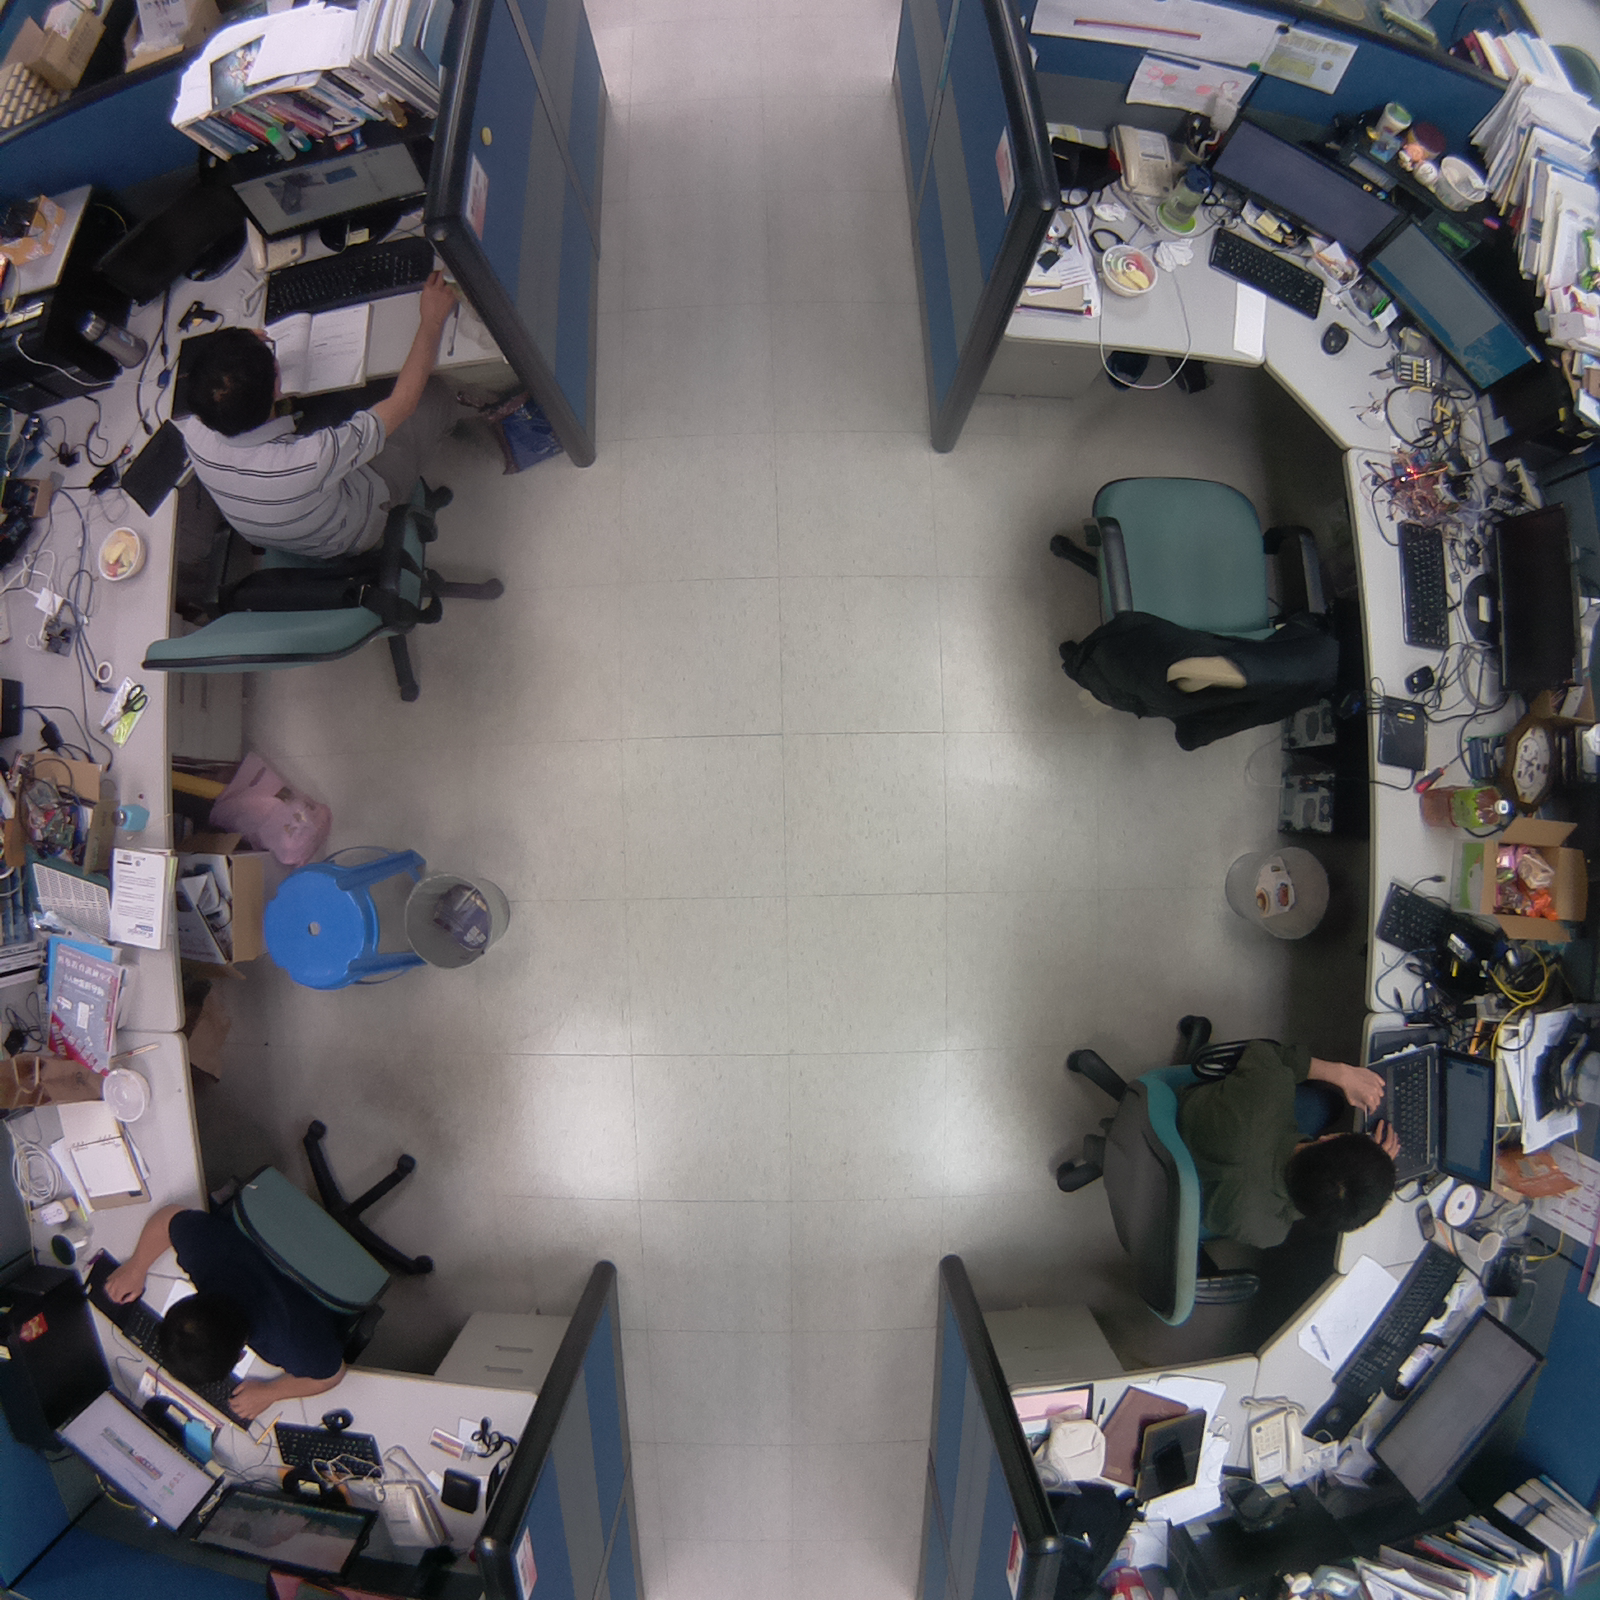chair: (1037, 455, 1373, 773)
head: (1280, 1127, 1400, 1240), (151, 1287, 253, 1397), (176, 325, 287, 427)
sitting: (129, 295, 509, 722), (1027, 999, 1414, 1337), (95, 1091, 470, 1421)
